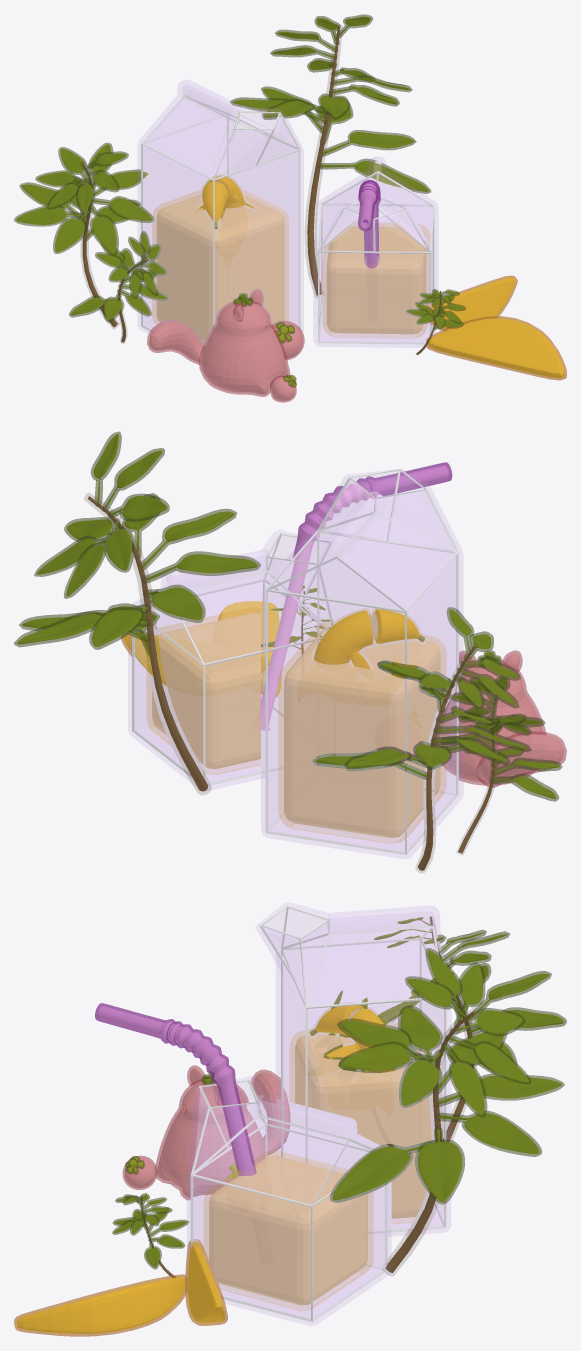
Rendered from fruit-milk.glb.
The picture shows the model from 3 angles, top to bottom: view 1: azimuth 30°, elevation 25°; view 2: azimuth 150°, elevation 25°; view 3: azimuth 270°, elevation 25°; orthographic projection. The views are drawn at different scales.
Size of the model in its own units: 0.6144 by 0.3954 by 0.5872.
2 materials, 2 textured.
